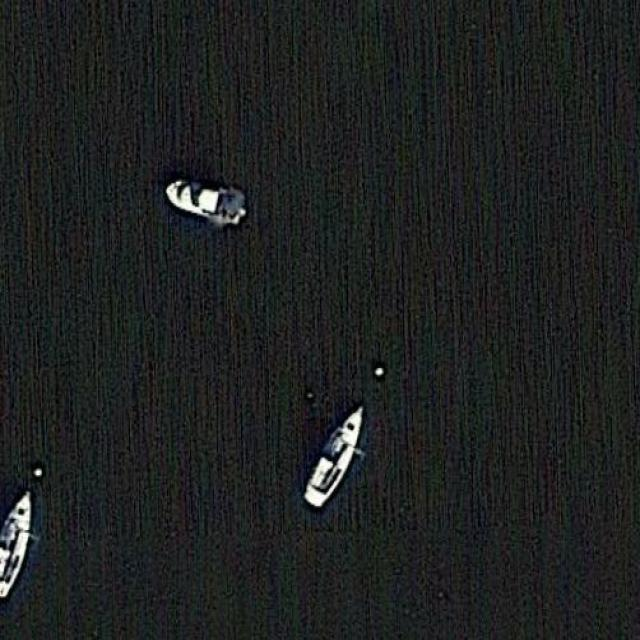boat: (300, 396, 370, 512), (155, 170, 250, 230), (0, 485, 37, 600)
